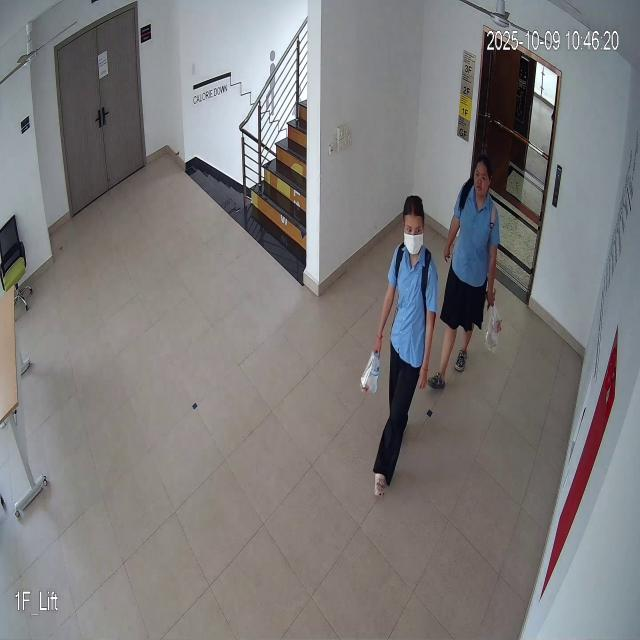face: (469, 148, 496, 205)
